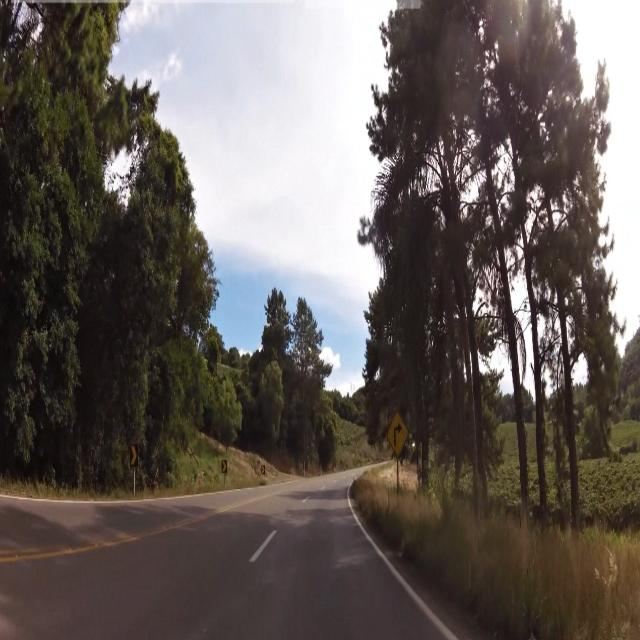A-1b: (385, 405, 411, 462)
